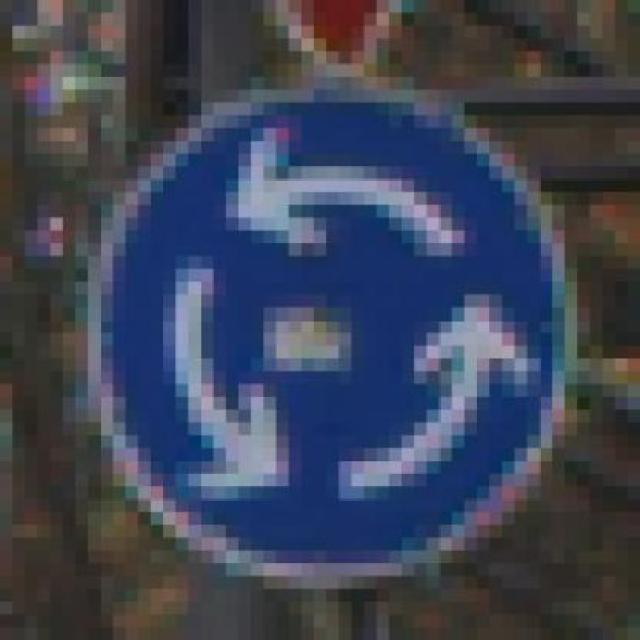Round-About: (50, 77, 615, 628)
